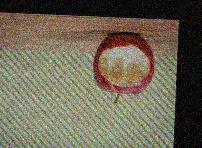rotten apple: (90, 28, 156, 95)
